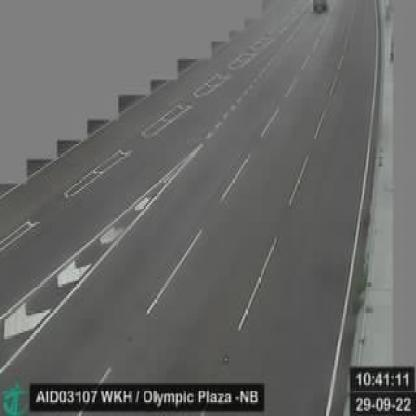Car: (308, 0, 330, 16)
